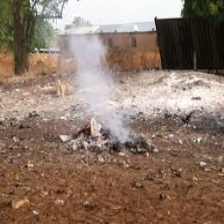smoke: (71, 36, 136, 135)
